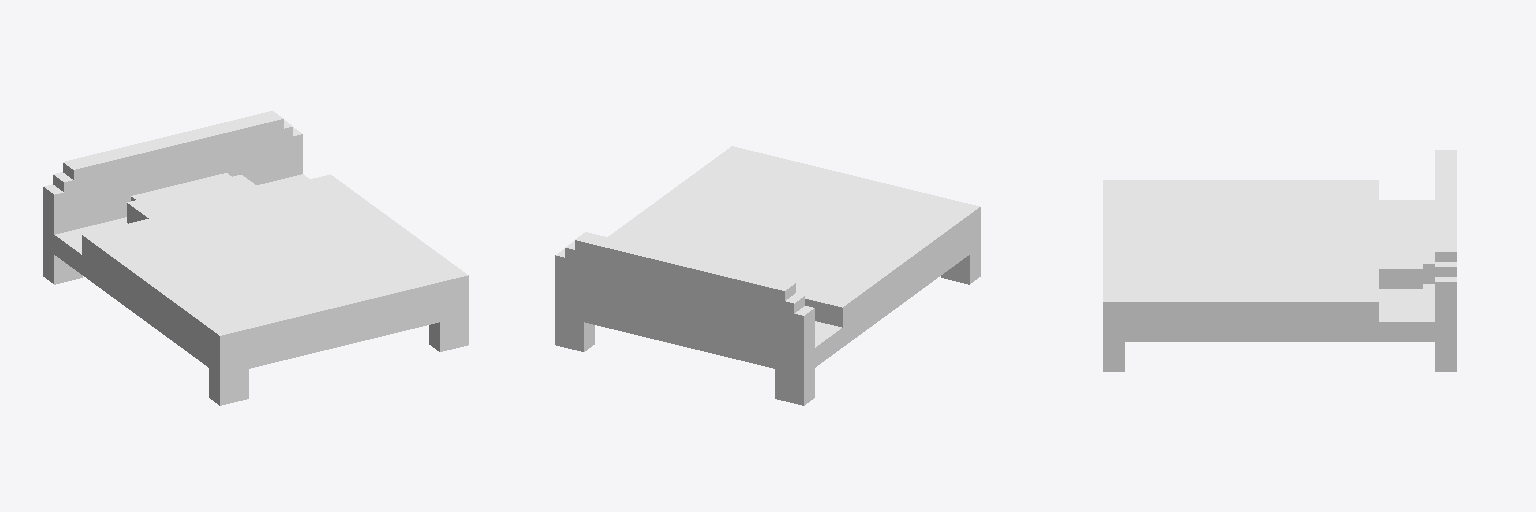
The model's file is bed.obj.
3 views of the same model, side by side, from view 1: azimuth 30°, elevation 25°; view 2: azimuth 150°, elevation 25°; view 3: azimuth 270°, elevation 25° (orthographic).
Visible parts, largest first — view 1: object 1; view 2: object 1; view 3: object 1.
Boxes of the visible parts, <box> form: object 1: <box>43,111,468,405</box>; object 1: <box>555,146,980,405</box>; object 1: <box>1103,150,1456,371</box>.
Size of the model in its own units: 2.6 by 1.1 by 3.2.